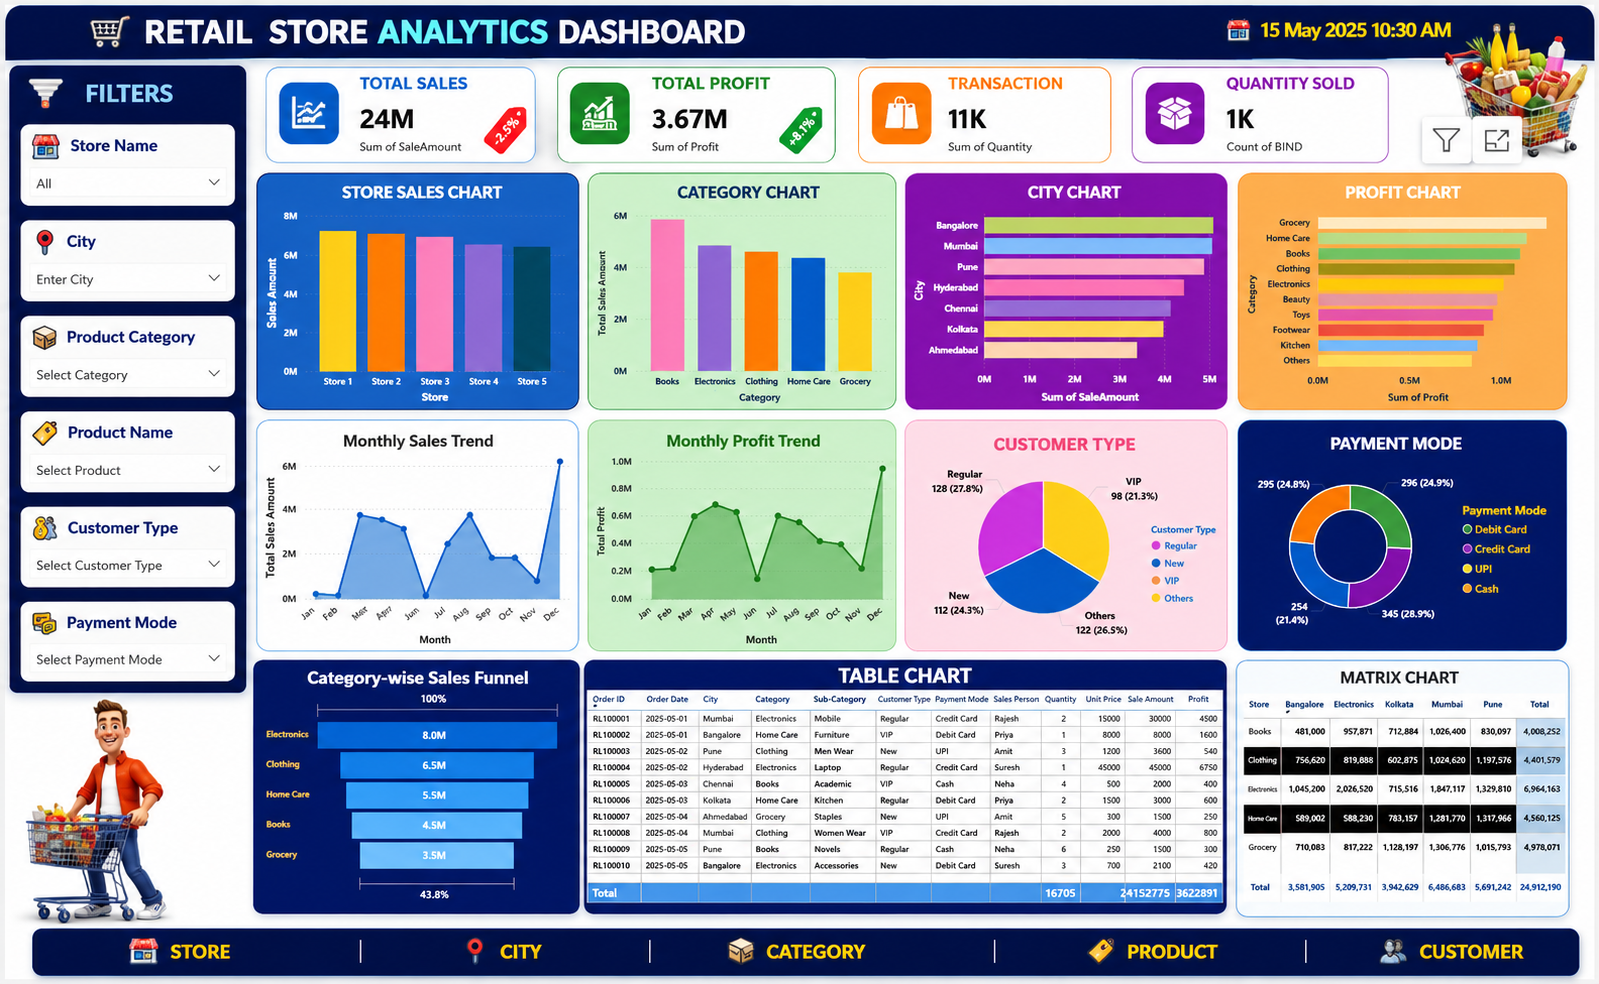

The page's visual inventory and layout, read from the dashboard file:
{"tool":"powerbi","page":{"name":"Page 1","canvas":[2800,1600],"ordinal":0},"visuals":[{"type":"group","id":"g1","title":"Group 12","box":[505,83.8,467.5,165],"z":0,"group":"g7"},{"type":"group","id":"g2","title":"Group 13","box":[505,83.8,467.5,165],"z":0,"group":"g1"},{"type":"cardVisual","title":"TOTAL SALES","fields":{"Data":["Sum(Retail_Data.SalesAmount)"]},"box":[505,83.8,467.5,165],"z":0,"group":"g2"},{"type":"cardVisual","title":"TANSACATION","fields":{"Data":["Sum(Retail_Data.Quantity)"]},"box":[1492.5,85,467.5,160],"z":0,"group":"g5"},{"type":"cardVisual","title":"TOTAL PROFIT","fields":{"Data":["Sum(Retail_Data.Profit)"]},"box":[993.5,86,466.8,159.1],"z":0,"group":"g6"},{"type":"group","id":"g3","title":"Group 2","box":[0,86.2,492,1132],"z":0,"group":"g8"},{"type":"shape","title":"FILTERS","box":[0,86.2,492,1132],"z":0,"group":"g3"},{"type":"cardVisual","title":"QUANTITY SOLD","fields":{"Data":["CountNonNull(Retail_Data.BillID)"]},"box":[1990,87.5,467.5,157.5],"z":0,"group":"g9"},{"type":"columnChart","title":"STORE SALES CHART","fields":{"Category":["Retail_Data.Store"],"Y":["Sum(Retail_Data.SalesAmount)"]},"box":[495.9,264.1,530.9,388.1],"z":0},{"type":"textSlicer","title":"💰💸 PAYMENT MODE","fields":{"Values":["Retail_Data.PaymentMode"]},"box":[11.2,1049,468.7,146.3],"z":0,"group":"g4"},{"type":"image","box":[30,102.2,88,74],"z":1000,"group":"g8"},{"type":"image","box":[1338.9,137.7,93.3,72.2],"z":1000,"group":"g6"},{"type":"image","box":[1836.7,137.8,110,72.2],"z":1000,"group":"g5"},{"type":"image","box":[865.6,141.6,90,72.2],"z":1000,"group":"g2"},{"type":"image","box":[2351.1,155.8,74.4,60],"z":1000,"group":"g9"},{"type":"group","id":"g4","title":"Group 1","box":[10.1,203.8,471.9,991.5],"z":1000,"group":"g3"},{"type":"textSlicer","title":"🏪 Store Name","fields":{"Values":["Retail_Data.Store"]},"box":[11.1,203.8,468,138],"z":1000,"group":"g4"},{"type":"clusteredBarChart","title":"PROFIT CHART","fields":{"Category":["Retail_Data.Product"],"Y":["Sum(Retail_Data.Profit)"]},"box":[2137.7,262.3,530,390],"z":1000},{"type":"columnChart","title":"CATEGORY CHART","fields":{"Category":["Retail_Data.Category"],"Y":["Sum(Retail_Data.SalesAmount)"]},"box":[1037.5,262.5,530,390],"z":2000},{"type":"textSlicer","title":"📦 PRODUCT CATEGORY","fields":{"Values":["Retail_Data.Category"]},"box":[10.1,543.4,468.7,146.3],"z":2000,"group":"g4"},{"type":"clusteredBarChart","title":"CITY CHART","fields":{"Category":["Retail_Data.City"],"Y":["Sum(Retail_Data.SalesAmount)"]},"box":[1587.5,262.5,530,390],"z":3000},{"type":"textSlicer","title":"🏷️ PRODUCT NAME","fields":{"Values":["Retail_Data.Product"]},"box":[12,722.2,470,146],"z":3000,"group":"g4"},{"type":"textSlicer","title":"📍 CITY","fields":{"Values":["Retail_Data.City"]},"box":[10.1,367.8,468.7,137.5],"z":3500,"group":"g4"},{"type":"lineChart","title":"Monthly Sales Trend","fields":{"Category":["Retail_Data.BillDate.Variation.Date Hierarchy.Month"],"Y":["Sum(Retail_Data.SalesAmount)"]},"box":[492.5,667.5,530,390],"z":4000},{"type":"textSlicer","title":"🧐CUSTOMER TYPE","fields":{"Values":["Retail_Data.CustomerType"]},"box":[14,884.2,468,138],"z":4000,"group":"g4"},{"type":"areaChart","title":"Monthly Profit Trend","fields":{"Category":["Retail_Data.BillDate.Variation.Date Hierarchy.Month"],"Y":["Sum(Retail_Data.Profit)"]},"box":[1037.5,667.5,530,390],"z":5000},{"type":"pieChart","title":"CUSTOMER TYPE","fields":{"Category":["Retail_Data.CustomerType"],"Y":["Count(Retail_Data.BillID)"]},"box":[1587.5,667.5,530,385],"z":6000},{"type":"donutChart","title":"PAYMENT MODE","fields":{"Category":["Retail_Data.PaymentMode"],"Y":["Count(Retail_Data.BillID)"]},"box":[2137.8,667.8,530,384.4],"z":7000},{"type":"funnel","title":"Category-wise Sales Funnel","fields":{"Category":["Retail_Data.Category"],"Y":["Sum(Retail_Data.SalesAmount)"]},"box":[492.5,1067.5,530,415],"z":8000},{"type":"textbox","box":[0,0,2800,82.7],"z":9000},{"type":"tableEx","title":"TABLE CHART","fields":{"Values":["Retail_Data.BillID","Retail_Data.BillDate.Variation.Date Hierarchy.Year","Retail_Data.BillDate.Variation.Date Hierarchy.Quarter","Retail_Data.BillDate.Variation.Date Hierarchy.Month","Retail_Data.BillDate.Variation.Date Hierarchy.Day","Retail_Data.Store","Retail_Data.City","Retail_Data.Category","Retail_Data.Product","Retail_Data.CustomerType","Retail_Data.PaymentMode","Sum(Retail_Data.Quantity)"]},"box":[1037.5,1067.5,1080,415],"z":10000},{"type":"group","id":"g5","title":"Group 9","box":[1492.5,85,467.5,160],"z":11000},{"type":"group","id":"g6","title":"Group 7","box":[993.5,86,466.8,159.1],"z":12000},{"type":"group","id":"g7","title":"Group 8","box":[505,83.8,467.5,165],"z":13000},{"type":"image","box":[43.3,106.7,65,58.3],"z":14000},{"type":"image","box":[110,1210,270,390],"z":15000},{"type":"pivotTable","title":"MATRIX CHART","fields":{"Rows":["Retail_Data.Store"],"Columns":["Retail_Data.Category"],"Values":["Sum(Retail_Data.SalesAmount)"]},"box":[2137.5,1067.5,541.2,415],"z":16000},{"type":"actionButton","box":[0,0,100,40],"z":17000},{"type":"textbox","box":[380,1520,2376.7,80],"z":18000},{"type":"group","id":"g8","title":"Group 4","box":[0,86.2,491.2,1132.5],"z":19000},{"type":"image","box":[2459.2,10,340.8,314.6],"z":20000},{"type":"group","id":"g9","title":"Group 3","box":[1990,87.5,467.5,157.5],"z":21000}]}

Visuals, with their boxes in screenshot pixels (x1, y1, x2, y2):
"Group 12" group: (252,55,535,155)
"Group 13" group: (252,55,535,155)
"TOTAL SALES" cardVisual: (252,55,535,155)
"TANSACATION" cardVisual: (849,56,1132,152)
"TOTAL PROFIT" cardVisual: (547,56,830,153)
"Group 2" group: (0,56,244,742)
"FILTERS" shape: (0,56,244,742)
"QUANTITY SOLD" cardVisual: (1150,57,1433,152)
"STORE SALES CHART" columnChart: (246,164,567,399)
"💰💸 PAYMENT MODE" textSlicer: (0,639,236,728)
image: (0,66,17,111)
image: (756,88,813,131)
image: (1058,88,1124,131)
image: (470,90,524,134)
image: (1369,98,1414,135)
"Group 1" group: (0,128,238,728)
"🏪 Store Name" textSlicer: (0,128,236,211)
"PROFIT CHART" clusteredBarChart: (1240,163,1561,399)
"CATEGORY CHART" columnChart: (574,163,895,399)
"📦 PRODUCT CATEGORY" textSlicer: (0,333,236,422)
"CITY CHART" clusteredBarChart: (907,163,1228,399)
"🏷️ PRODUCT NAME" textSlicer: (0,441,238,530)
"📍 CITY" textSlicer: (0,227,236,310)
"Monthly Sales Trend" lineChart: (244,408,565,644)
"🧐CUSTOMER TYPE" textSlicer: (0,539,238,623)
"Monthly Profit Trend" areaChart: (574,408,895,644)
"CUSTOMER TYPE" pieChart: (907,408,1228,641)
"PAYMENT MODE" donutChart: (1240,408,1561,641)
"Category-wise Sales Funnel" funnel: (244,650,565,902)
textbox: (0,4,1598,54)
"TABLE CHART" tableEx: (574,650,1228,902)
"Group 9" group: (849,56,1132,152)
"Group 7" group: (547,56,830,153)
"Group 8" group: (252,55,535,155)
image: (0,69,11,104)
image: (12,737,176,973)
"MATRIX CHART" pivotTable: (1240,650,1567,902)
actionButton: (0,4,6,28)
textbox: (176,924,1598,973)
"Group 4" group: (0,56,243,742)
image: (1435,10,1598,201)
"Group 3" group: (1150,57,1433,152)
